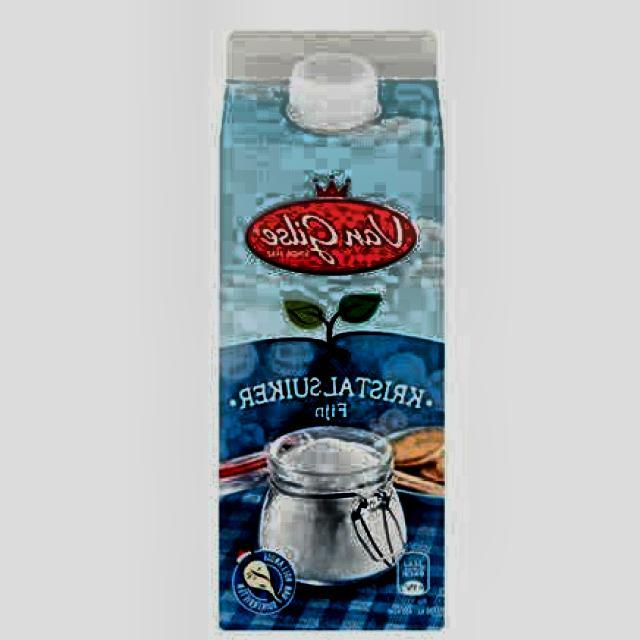cardboard: (218, 29, 448, 630)
